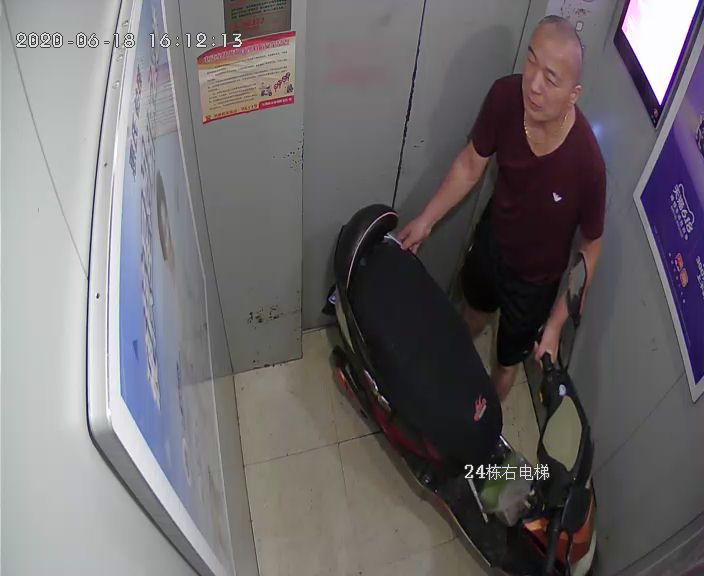Electric-bicycle: (331, 206, 599, 574)
